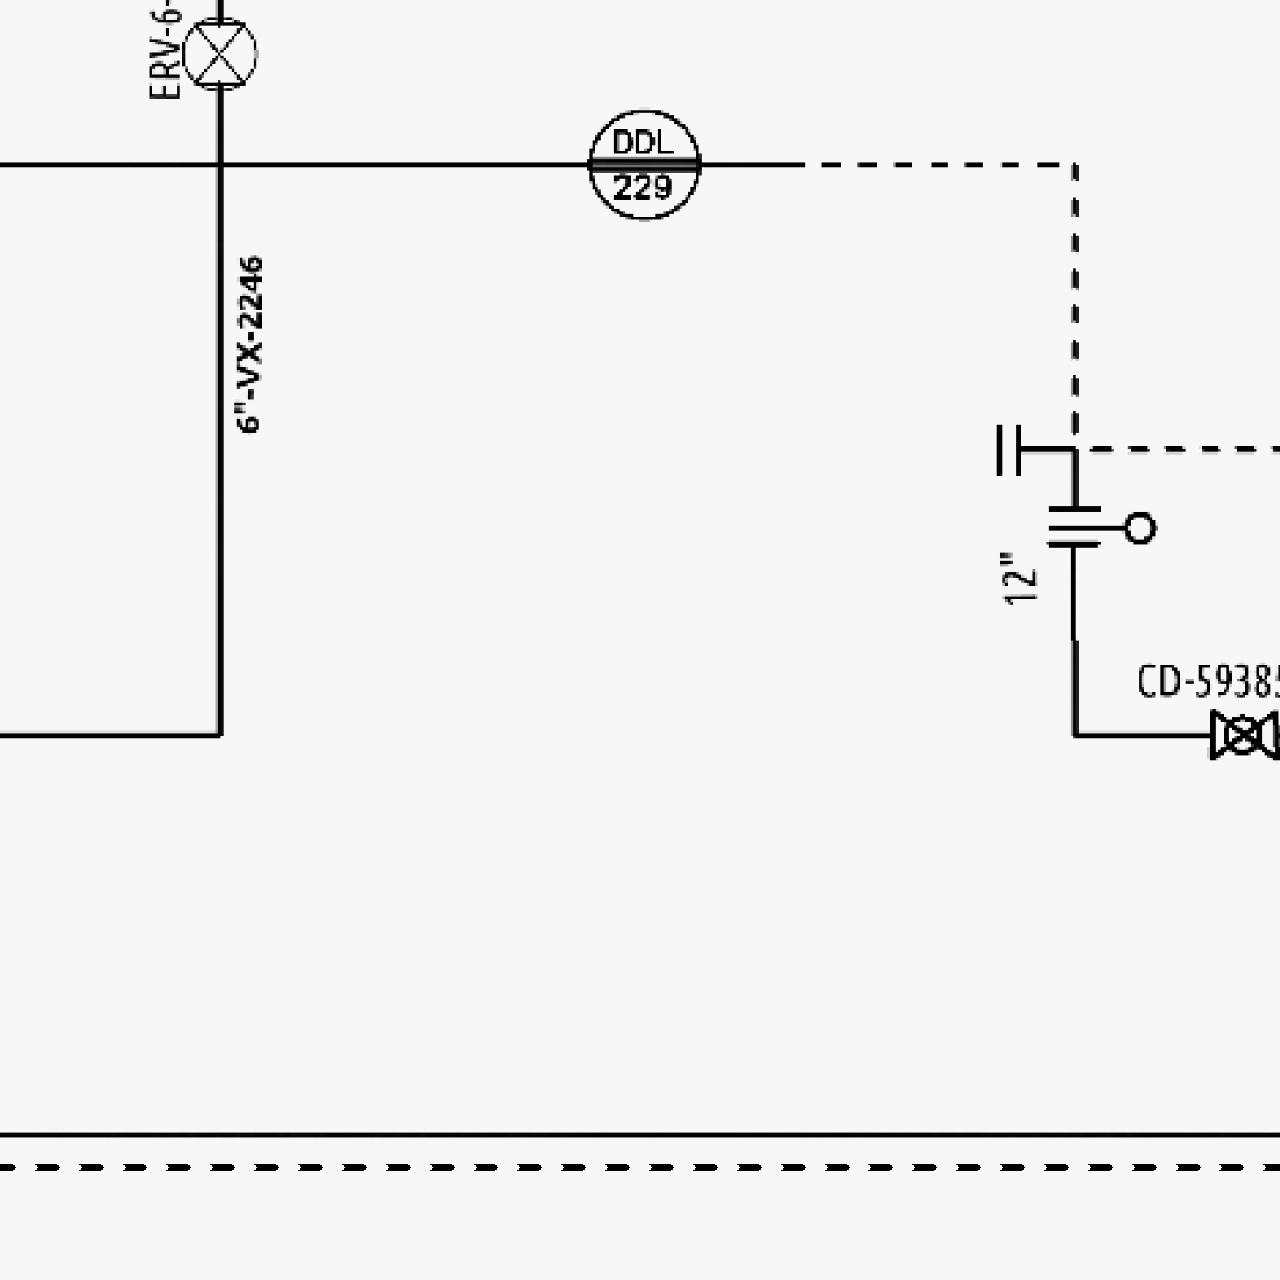Control-Panel: (580, 102, 707, 225)
